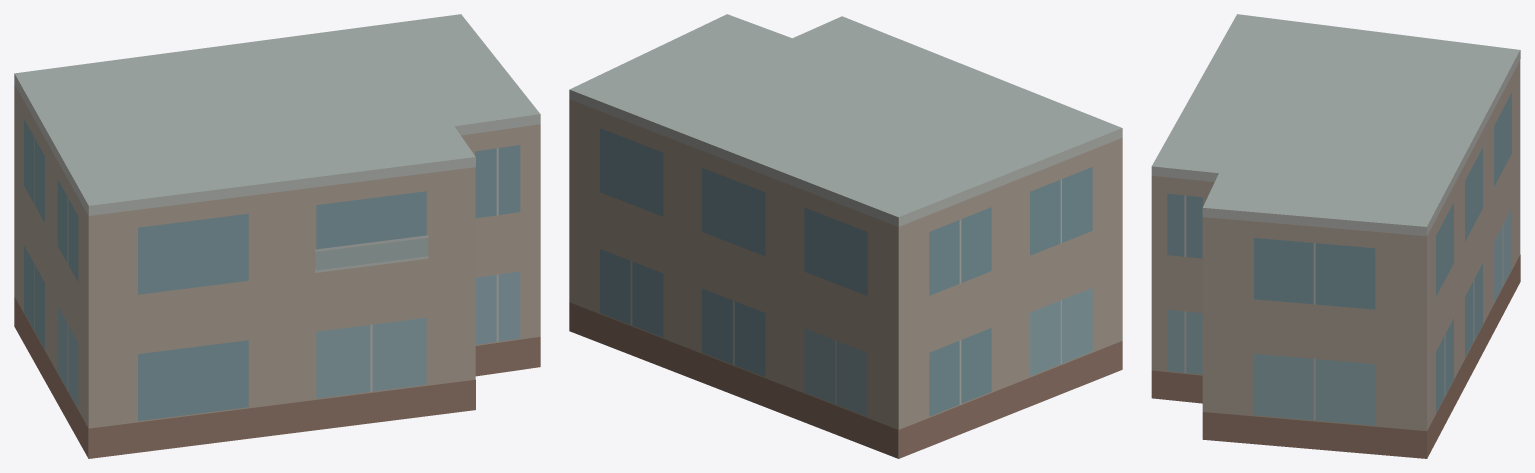
Rendered from survey-upis-32968885.glb.
3 views of the same model, side by side, from view 1: azimuth 30°, elevation 25°; view 2: azimuth 150°, elevation 25°; view 3: azimuth 270°, elevation 25° (orthographic). The views are drawn at different scales.
Parts seen in each view (by area): view 1: survey-upis-32968885.tmp; view 2: survey-upis-32968885.tmp; view 3: survey-upis-32968885.tmp.
Part boxes in pixels (bbox=[...]): survey-upis-32968885.tmp: bbox=[14, 14, 540, 458]; survey-upis-32968885.tmp: bbox=[569, 14, 1122, 458]; survey-upis-32968885.tmp: bbox=[1151, 14, 1520, 458].
Bounding box in the file's own units: 12.02 × 6.1 × 8.8.
